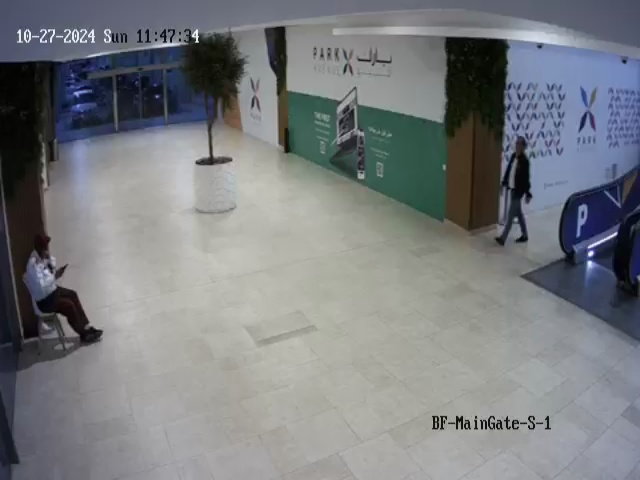employee: (25, 233, 104, 344)
male: (494, 136, 533, 246)
